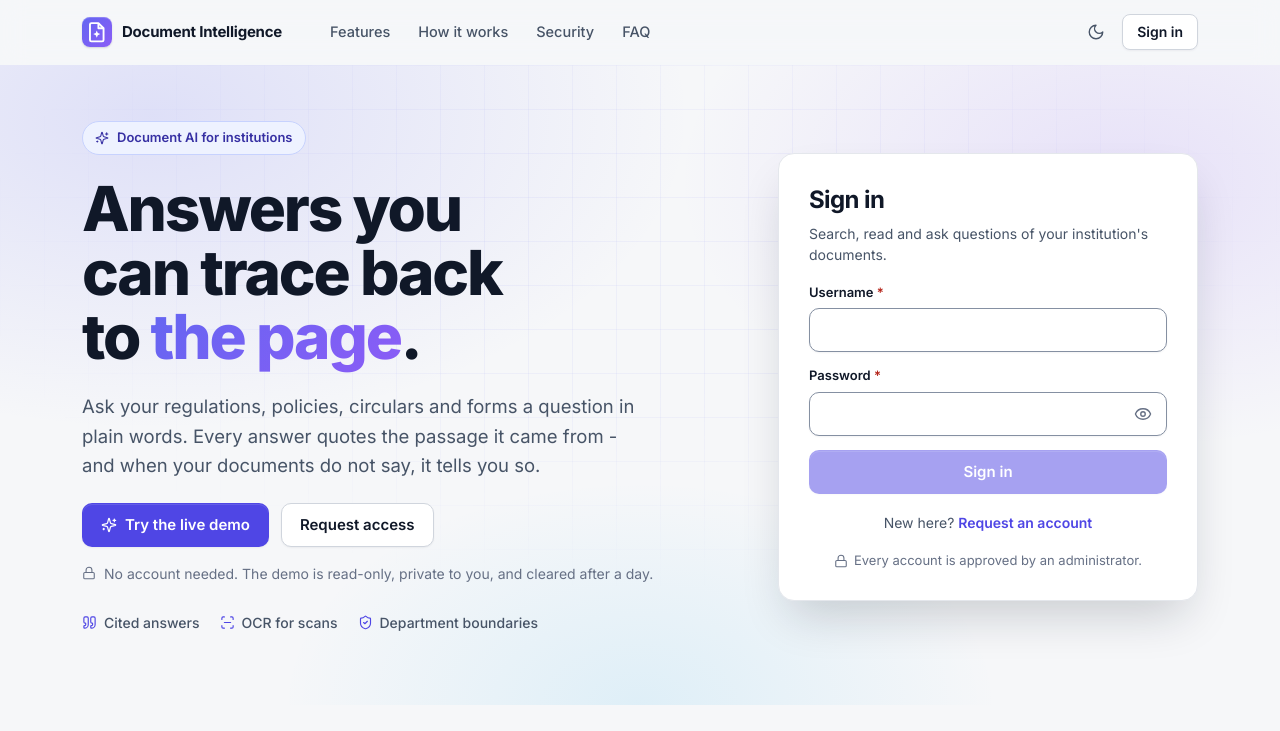
Scenario: the landing page › starts the demo in one click and lands in a read-only workspace
The image size is (1280, 731).
Click the button "Try the live demo" at (175, 525), box [82,503,269,547]
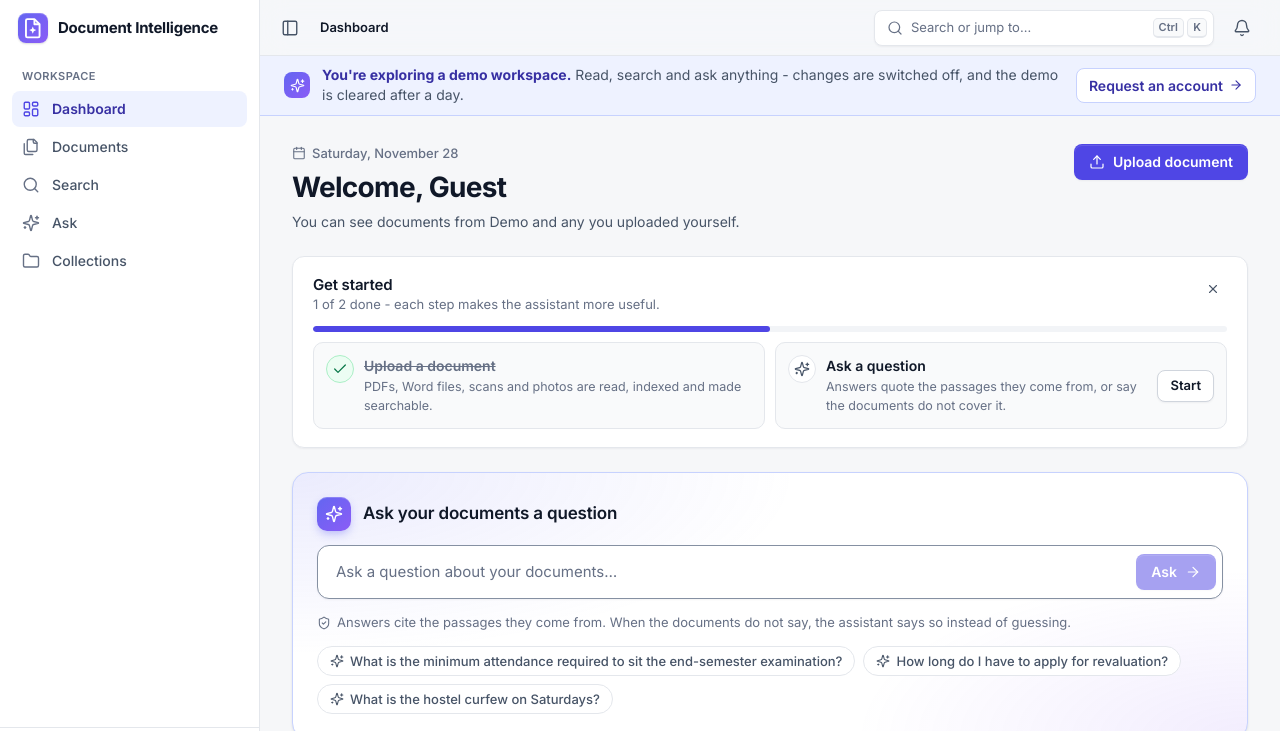
Expected: the button "Request an account" is shown, [1076,68,1256,103]
Now the heading "Welcome, Guest" is shown, box [292,170,506,204]
Now the text "You're exploring a demo workspace." is shown, box [322,66,571,83]
